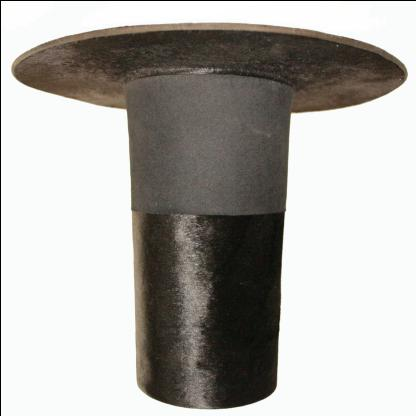hat: (6, 16, 410, 414)
